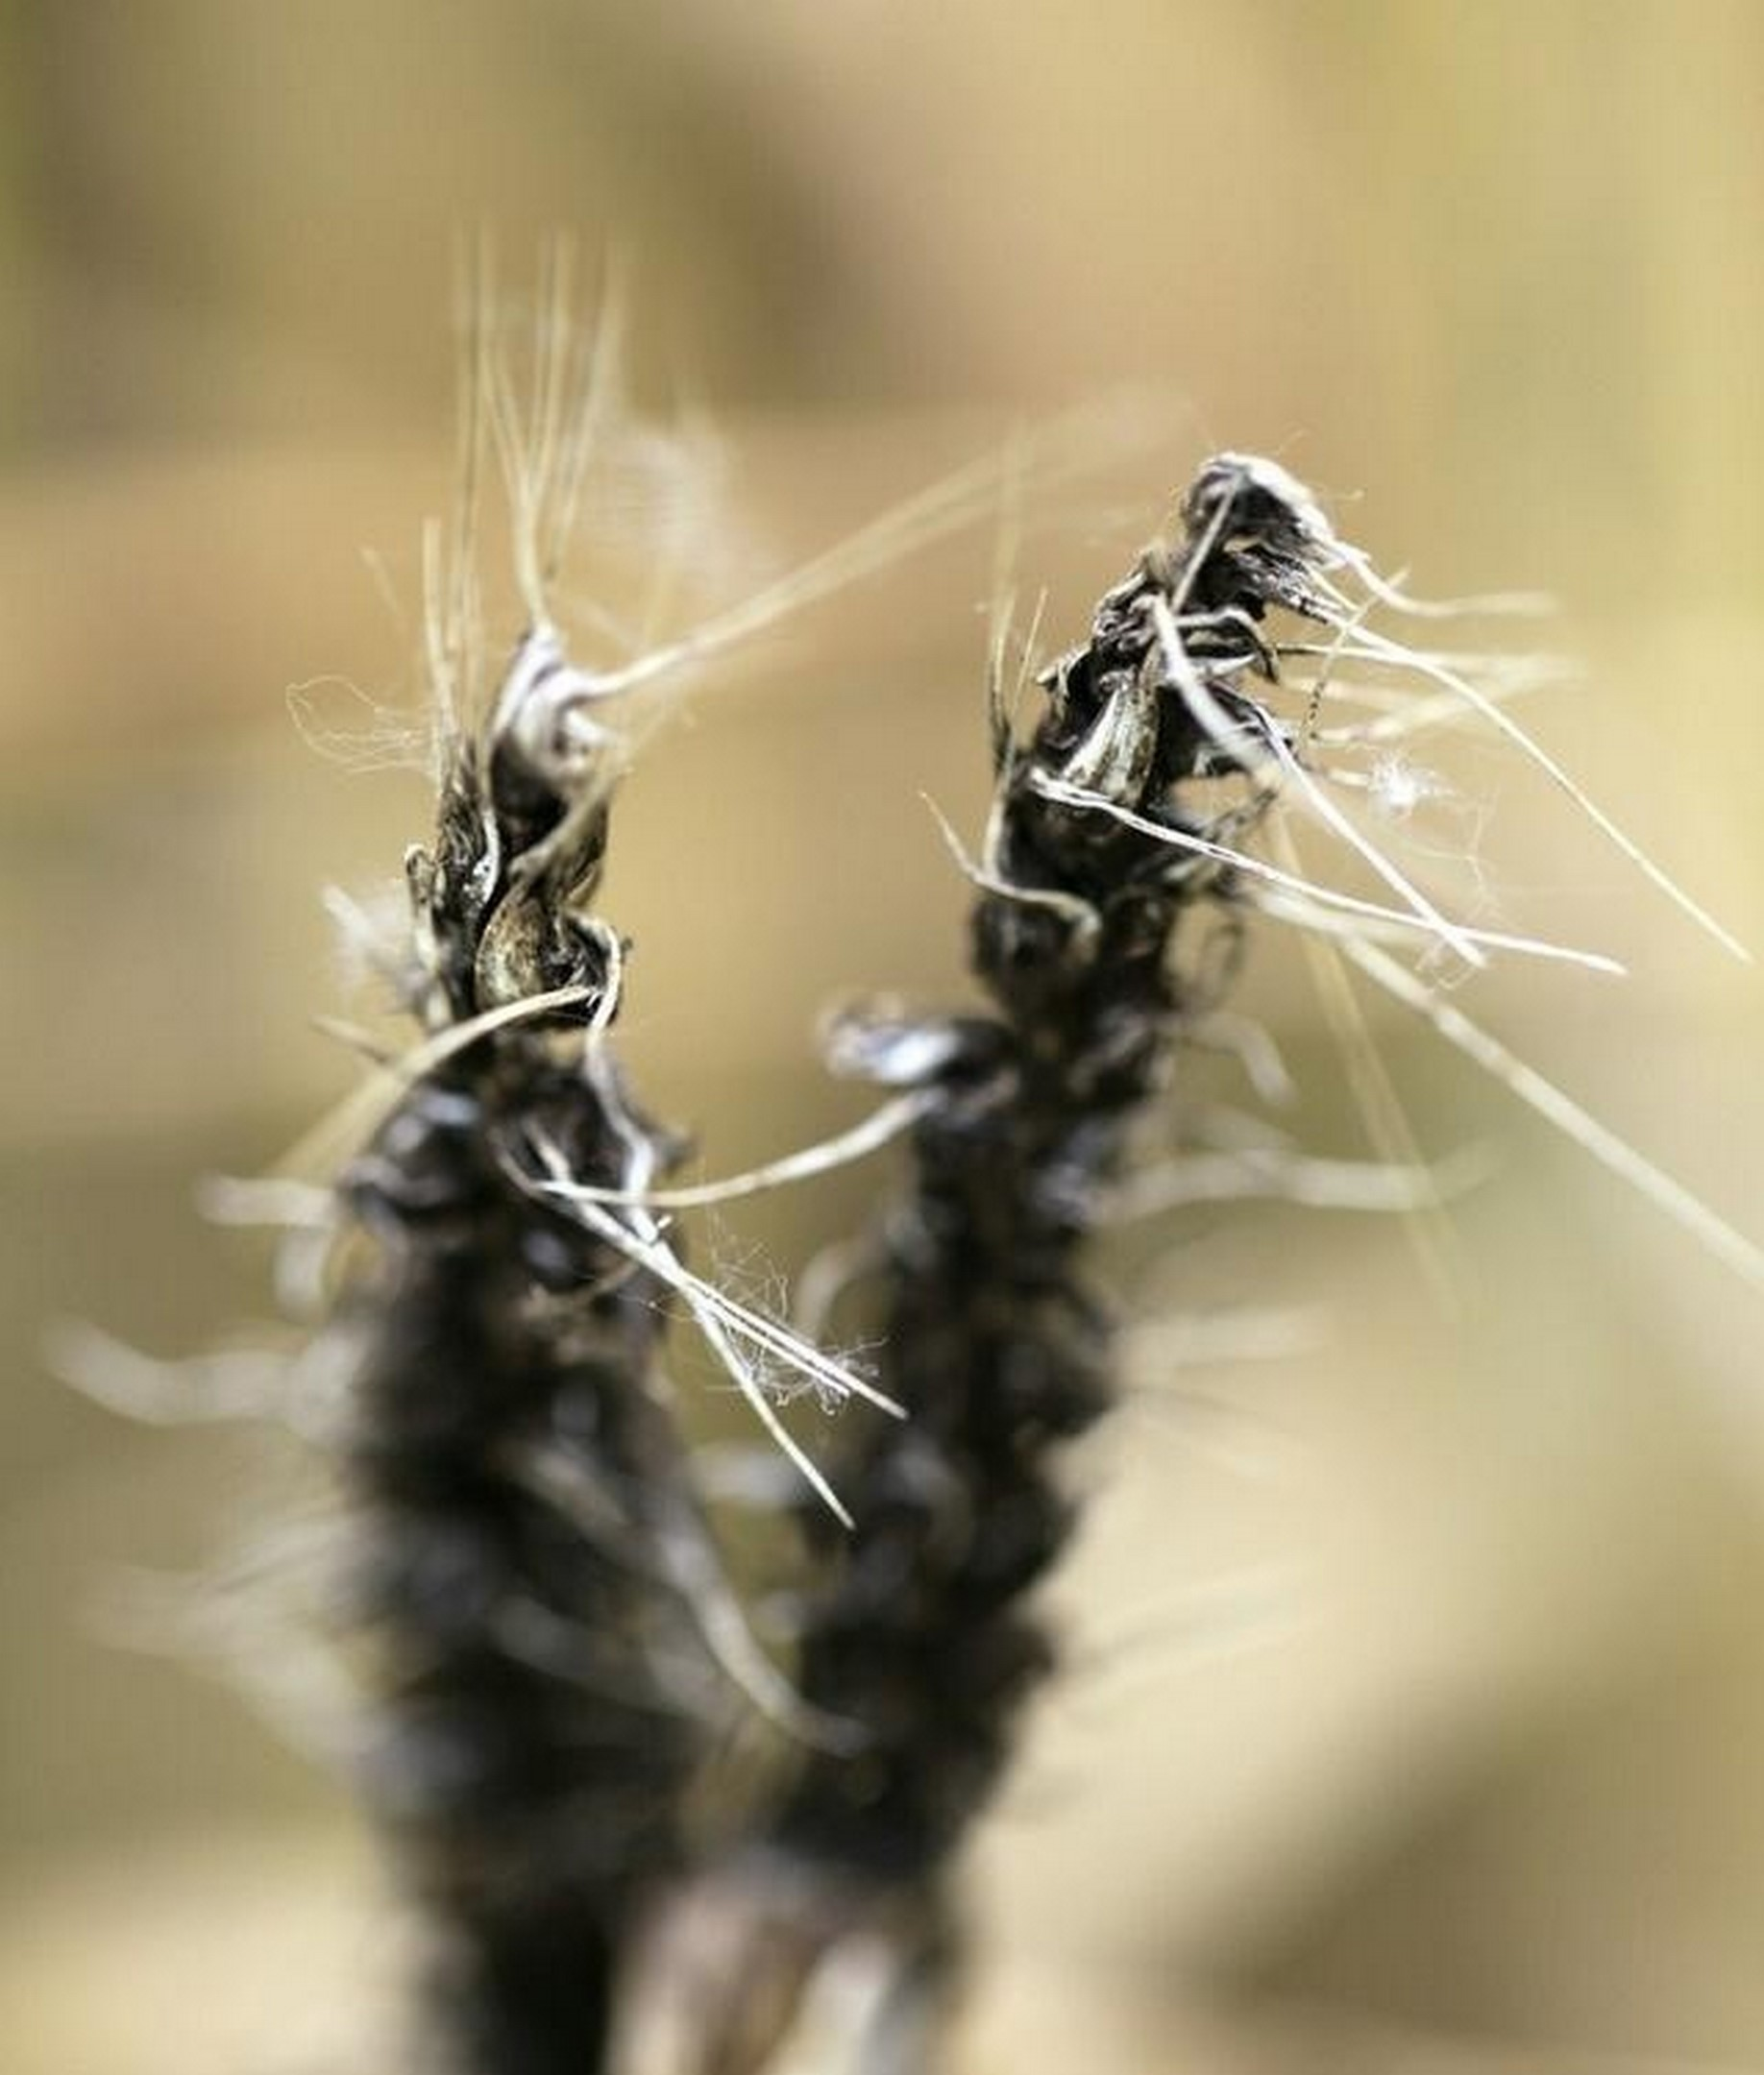Wheat Loose Smut: (212, 474, 1353, 1998)
